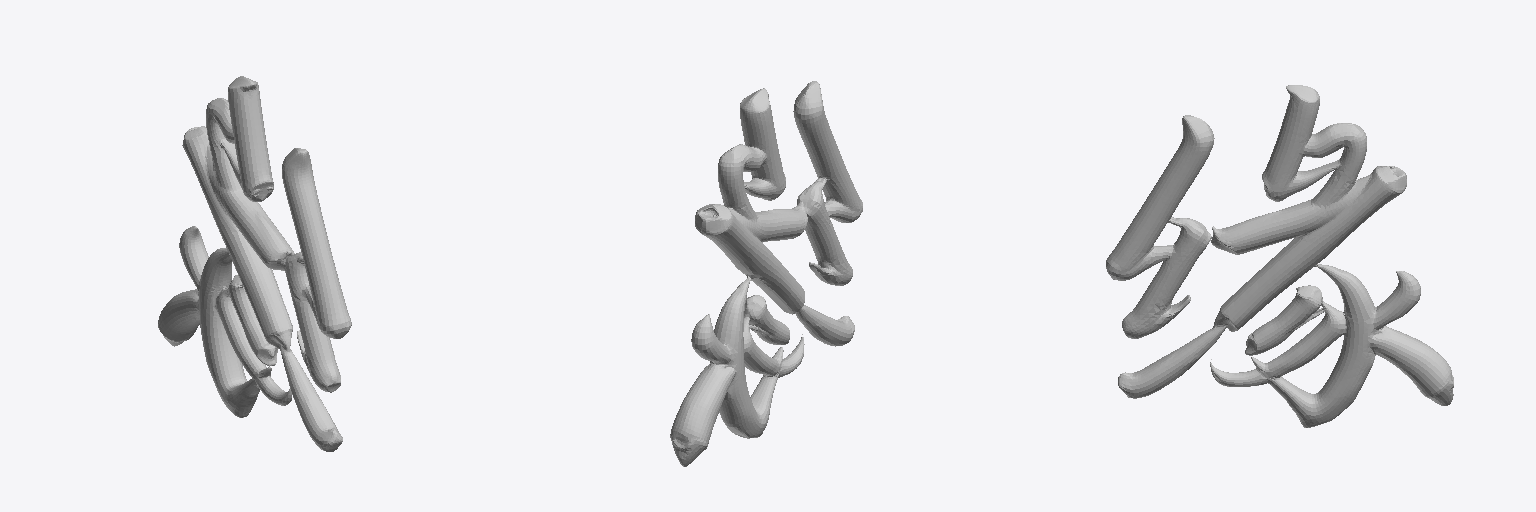
3 renders of one model, left to right at view 1: azimuth 30°, elevation 25°; view 2: azimuth 150°, elevation 25°; view 3: azimuth 270°, elevation 25°, orthographic.
Visible parts, largest first — view 1: tripo_node_1a7103b2-ba33-49f4-9573-633e8d0bb4f7; view 2: tripo_node_1a7103b2-ba33-49f4-9573-633e8d0bb4f7; view 3: tripo_node_1a7103b2-ba33-49f4-9573-633e8d0bb4f7.
Boxes of the visible parts, x1,y1,x2,y2 form: tripo_node_1a7103b2-ba33-49f4-9573-633e8d0bb4f7: [158, 76, 351, 451]; tripo_node_1a7103b2-ba33-49f4-9573-633e8d0bb4f7: [670, 81, 862, 466]; tripo_node_1a7103b2-ba33-49f4-9573-633e8d0bb4f7: [1106, 85, 1453, 427].
Bounding box in the file's own units: 0.108 × 1 × 0.9235.